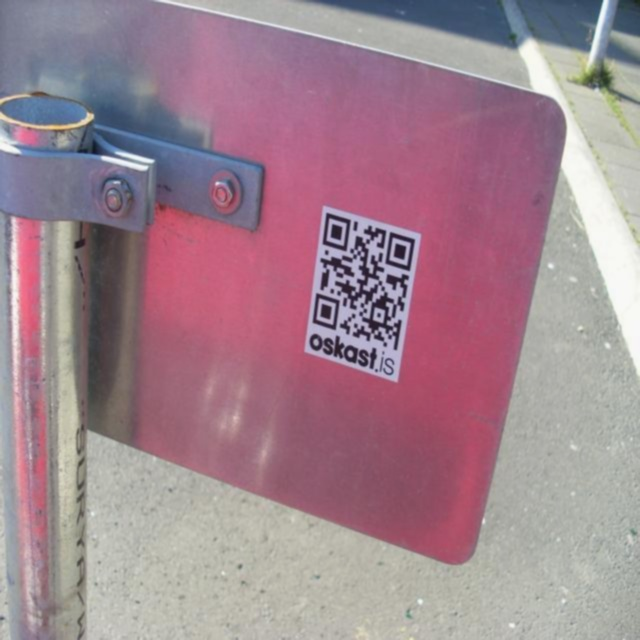qr-code: (312, 212, 415, 350)
